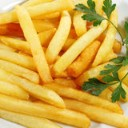frenchfries: (1, 1, 128, 125)
